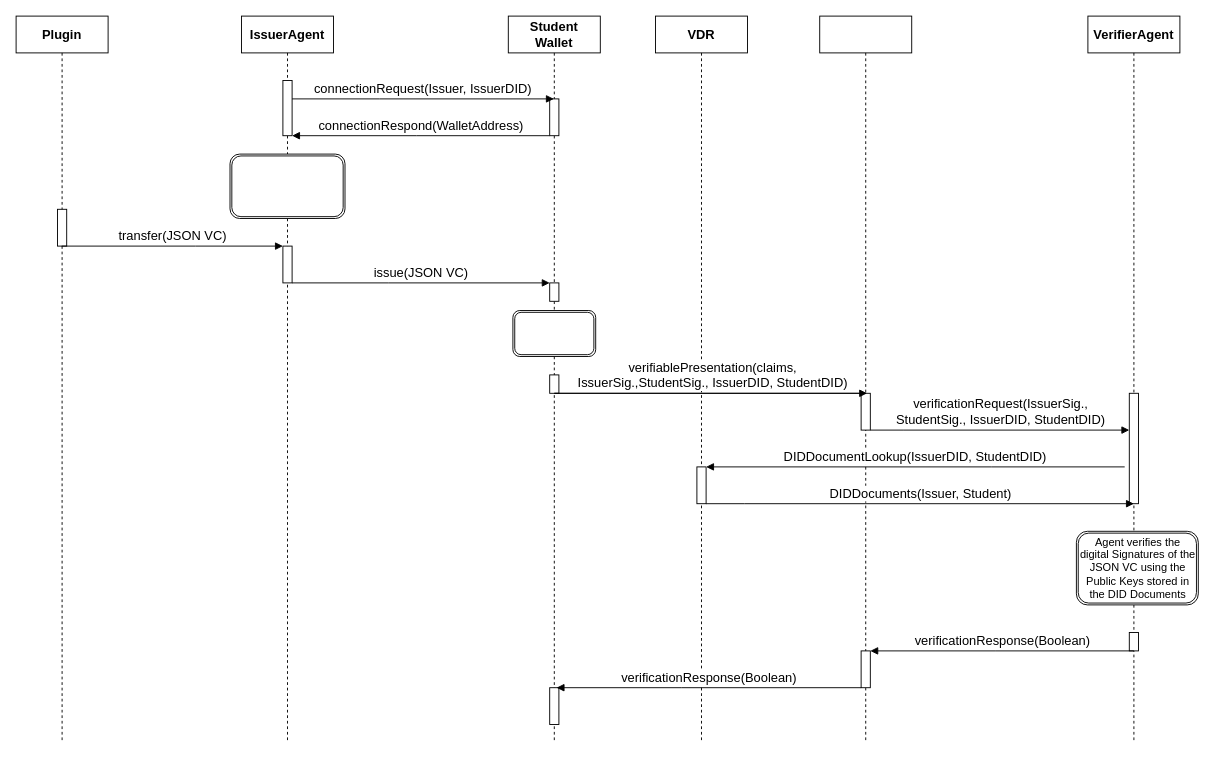
Some shapes in this 1214 by 759 pixel diagram are drawn without their labels. The centre of each missing label's shape, as x and y in pixels:
"Connection between IssuerAgent and Student Wallet is established" belongs at (287,185).
"Student wants to present claims from VC" belongs at (554,333).
"Verifier" belongs at (865,379).
